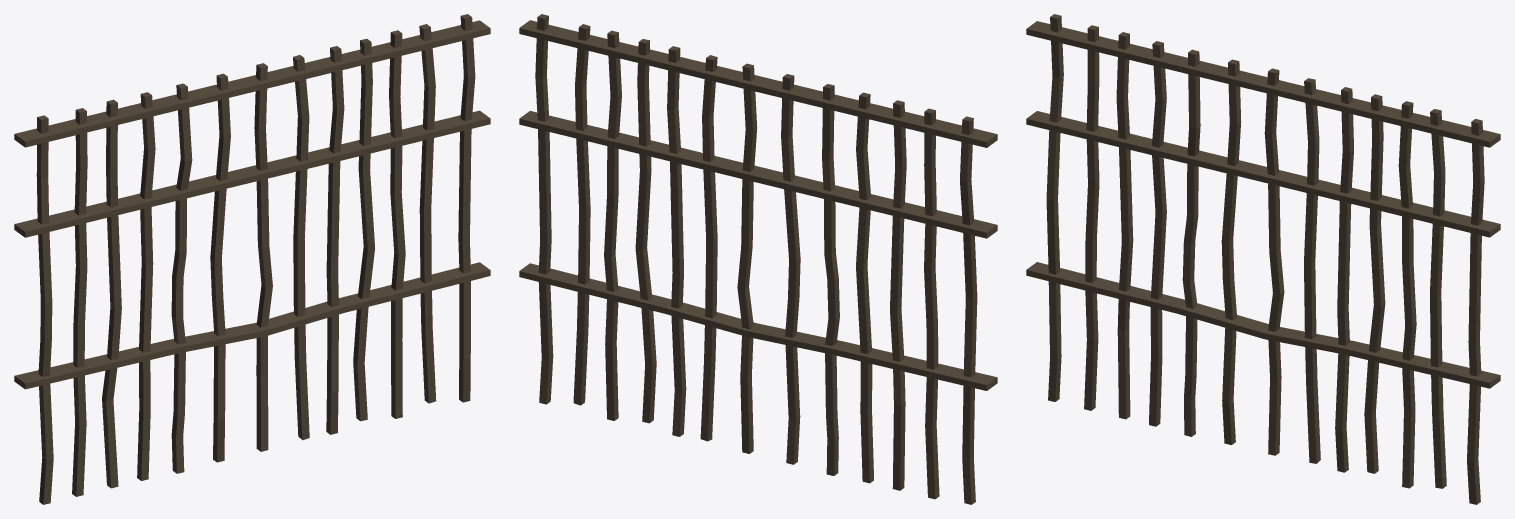
The model's file is jail_door_wall.gltf.
The picture shows the model from 3 angles, left to right: view 1: azimuth 30°, elevation 25°; view 2: azimuth 150°, elevation 25°; view 3: azimuth 330°, elevation 25°; orthographic projection.
Visible parts, largest first — view 1: Jail_Wall; view 2: Jail_Wall; view 3: Jail_Wall.
Boxes of the visible parts, x1,y1,x2,y2 form: Jail_Wall: (14, 14, 490, 504); Jail_Wall: (519, 14, 997, 504); Jail_Wall: (1026, 14, 1500, 504).
Size of the model in its own units: 4 by 3.18 by 0.1665.
Materials: 1 (1 with a texture image).
